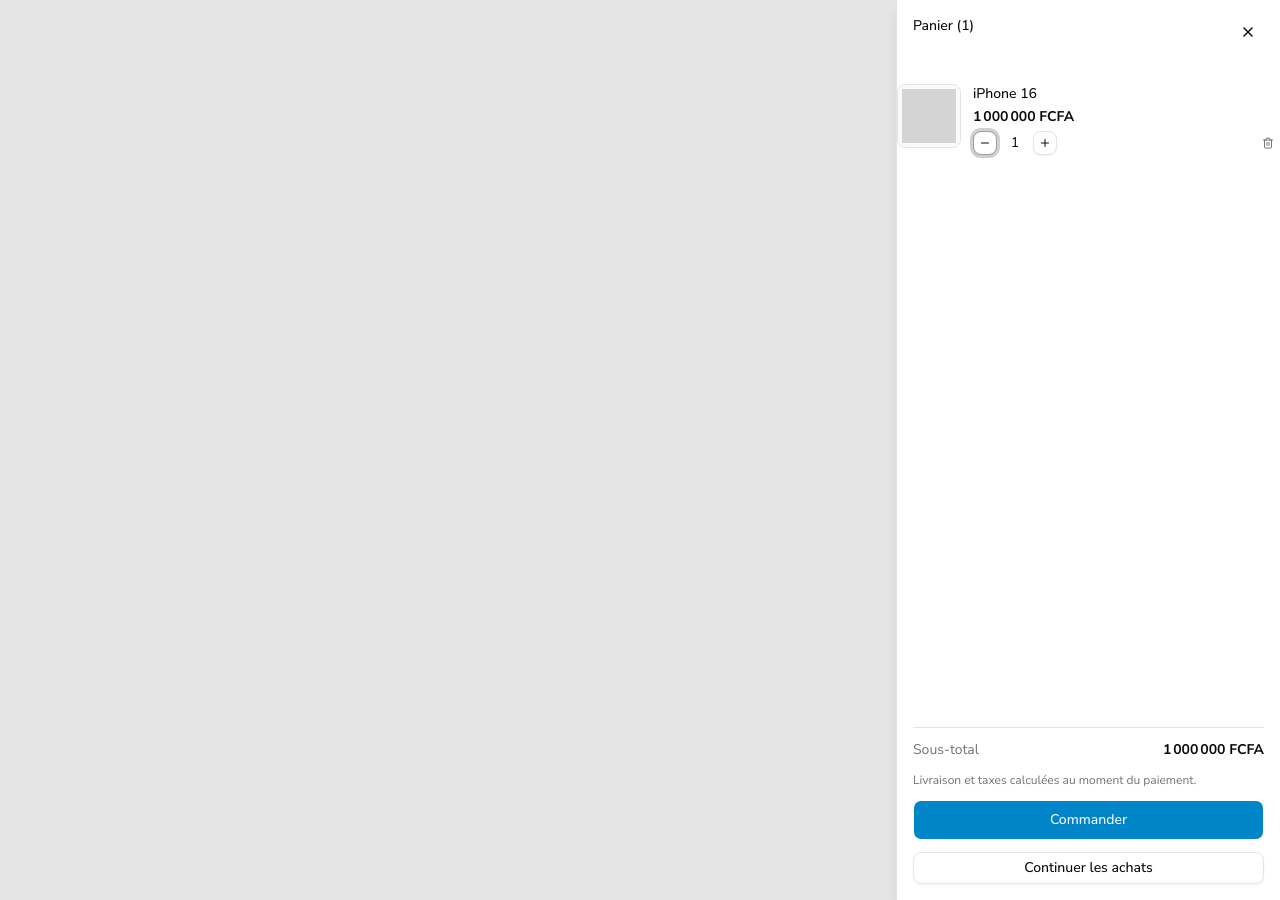
it: CartDrawer › removes item on click delete
Click the button named "supprimer" at (1268, 143), box [1256, 131, 1279, 155]
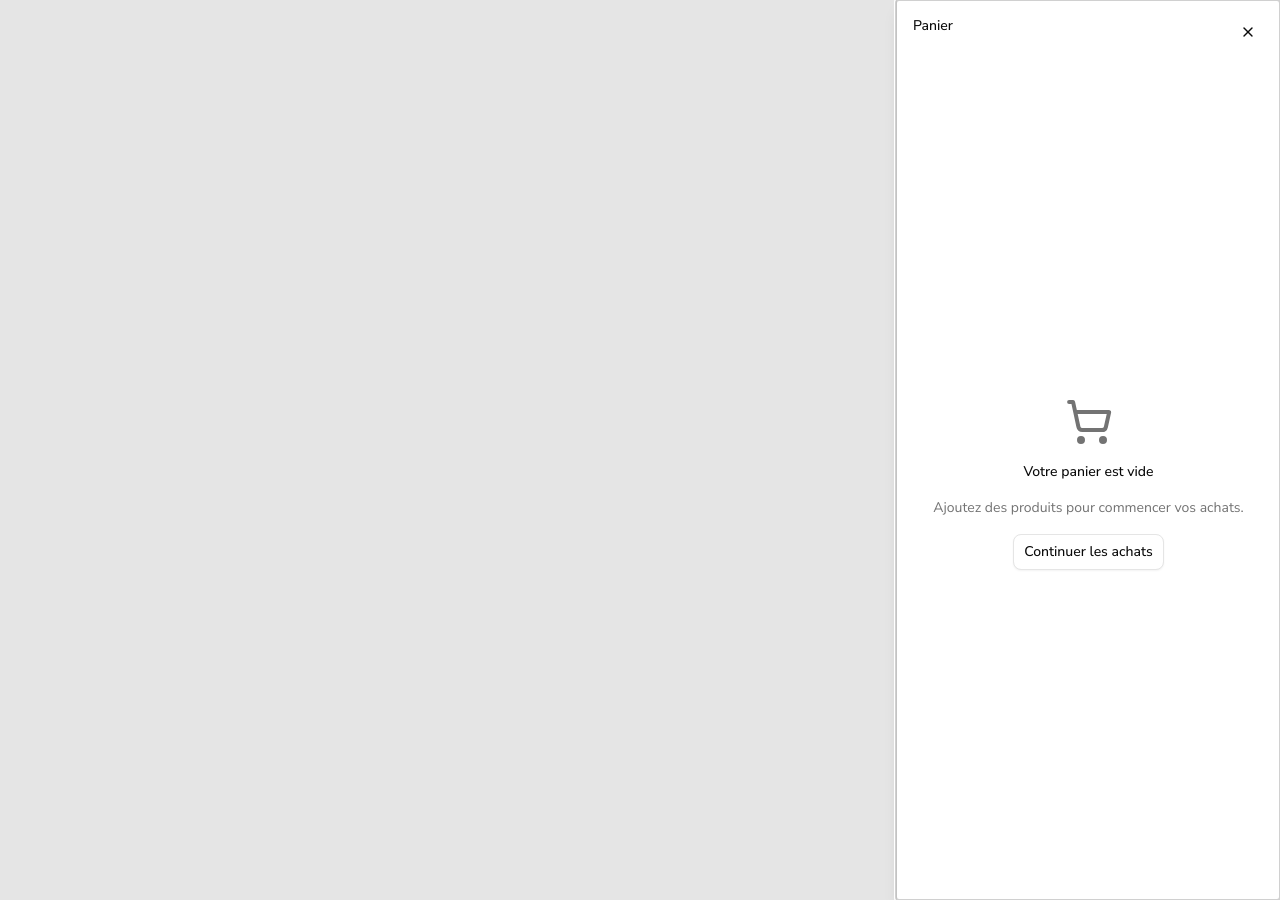
Now the text "Votre panier est vide" is shown, box [1023, 462, 1154, 482]
